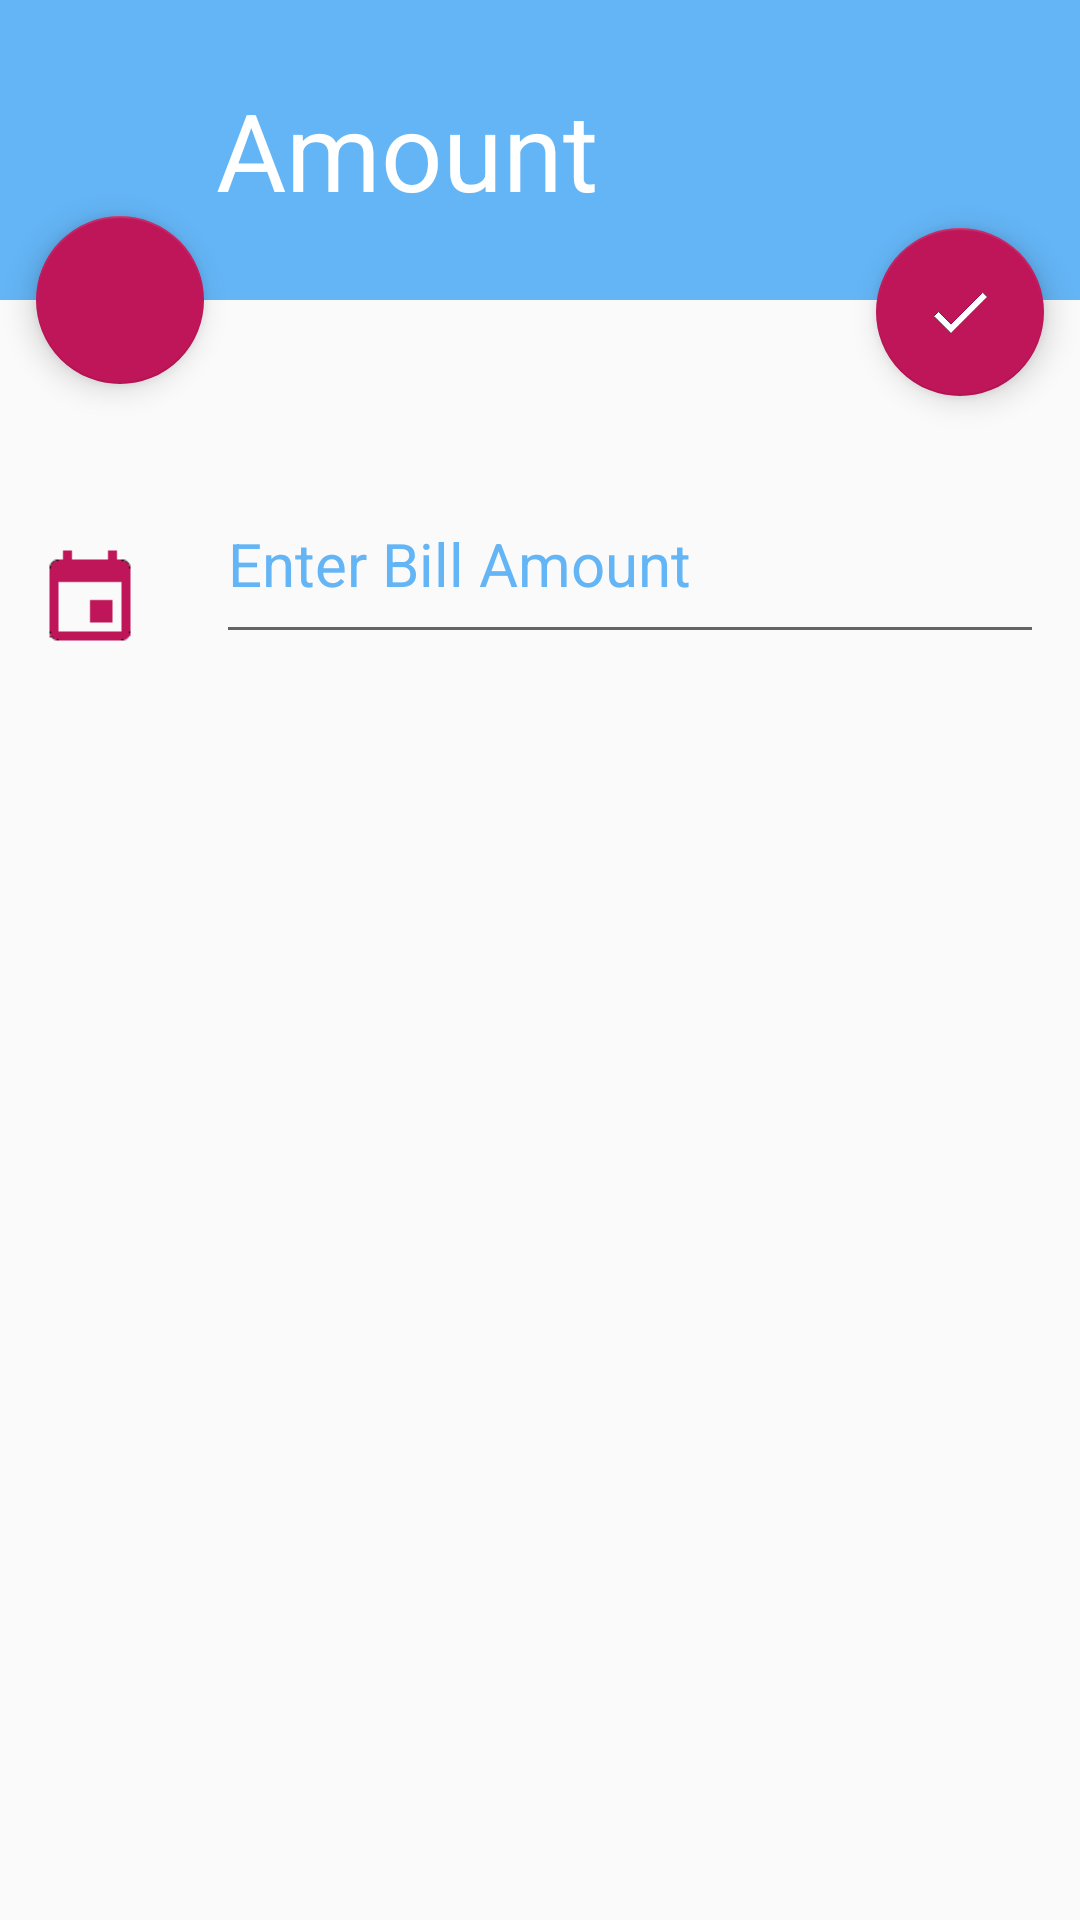

Screen size 1080*1920. Icon name, then its center in pixels as point (x, y):
check: point (960, 312)
date: point (90, 595)
